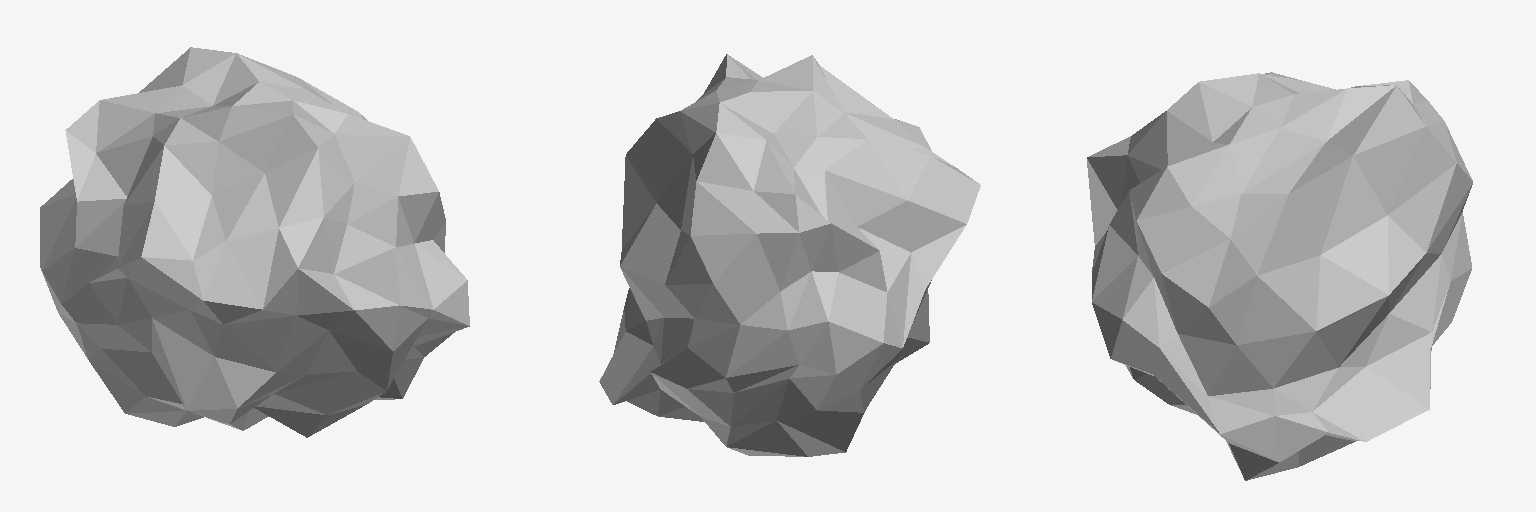
Rendered from Genastre5.obj.
3 renders of one model, left to right at view 1: azimuth 30°, elevation 25°; view 2: azimuth 150°, elevation 25°; view 3: azimuth 270°, elevation 25°, orthographic.
Visible parts, largest first — view 1: astre5; view 2: astre5; view 3: astre5.
Boxes of the visible parts, box(x1,y1,x2,y2) form: astre5: box(40, 47, 469, 437); astre5: box(599, 54, 980, 456); astre5: box(1087, 72, 1472, 480).
Bounding box in the file's own units: 80.61 × 79.62 × 79.94.